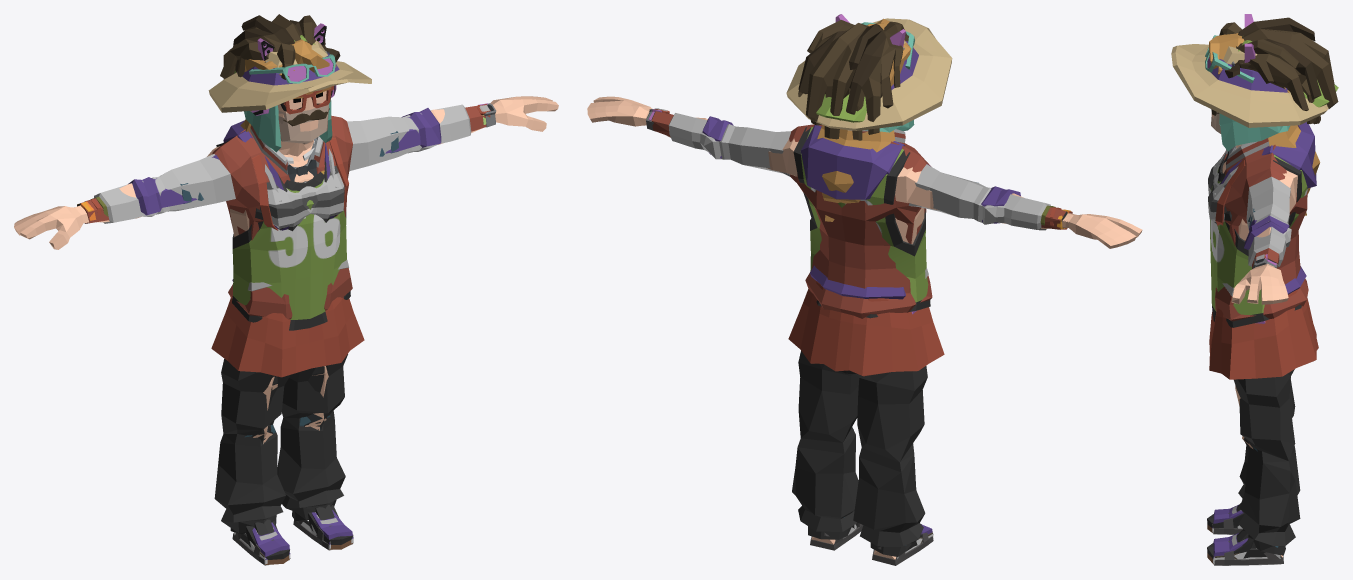
Rendered from test-chars.fbx.
3 renders of one model, left to right at view 1: azimuth 30°, elevation 25°; view 2: azimuth 150°, elevation 25°; view 3: azimuth 270°, elevation 25°, orthographic.
Visible parts, largest first — view 1: Character_Gangster, Character_Jock, Character_Hipster_female, Character_GamerGirl, Character_SummerGirl, Character_HipsterGuy; view 2: Character_Gangster, Character_Jock, Character_Hipster_female, Character_SummerGirl, Character_GamerGirl, Character_HipsterGuy; view 3: Character_Gangster, Character_Hipster_female, Character_Jock, Character_SummerGirl, Character_GamerGirl, Character_HipsterGuy.
Part boxes in pixels (left/top/right/bottom): Character_Gangster: left=14, top=35, right=558, bottom=565; Character_Jock: left=14, top=39, right=558, bottom=549; Character_Hipster_female: left=77, top=14, right=509, bottom=557; Character_GamerGirl: left=58, top=23, right=512, bottom=563; Character_SummerGirl: left=57, top=40, right=503, bottom=564; Character_HipsterGuy: left=14, top=41, right=557, bottom=564; Character_Gangster: left=590, top=94, right=1141, bottom=565; Character_Jock: left=587, top=18, right=1141, bottom=545; Character_Hipster_female: left=631, top=20, right=1082, bottom=559; Character_SummerGirl: left=635, top=18, right=1093, bottom=565; Character_GamerGirl: left=632, top=14, right=1095, bottom=534; Character_HipsterGuy: left=587, top=96, right=1142, bottom=551; Character_Gangster: left=1210, top=36, right=1338, bottom=565; Character_Hipster_female: left=1208, top=17, right=1338, bottom=559; Character_Jock: left=1209, top=33, right=1308, bottom=552; Character_SummerGirl: left=1171, top=35, right=1328, bottom=565; Character_GamerGirl: left=1212, top=14, right=1316, bottom=563; Character_HipsterGuy: left=1207, top=43, right=1288, bottom=564.
Bounding box in the file's own units: 205 × 188 × 54.92.
Materials: 2 (2 with a texture image).
